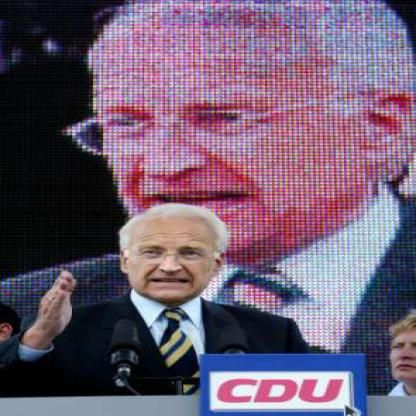face: (80, 1, 375, 257), (125, 209, 221, 303)
